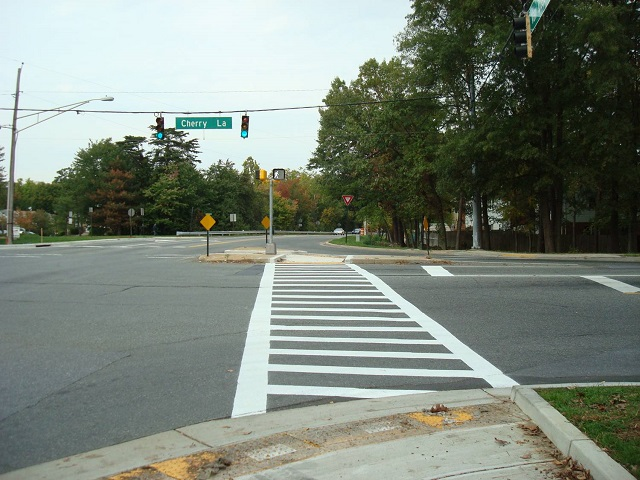pedestrian lane: (232, 263, 520, 419)
pole: (7, 127, 15, 243), (472, 198, 480, 249), (268, 181, 273, 253)
traffic light: (512, 13, 534, 59), (239, 114, 249, 138), (155, 116, 164, 139), (255, 169, 266, 181), (273, 169, 285, 179)
tree: (524, 75, 571, 249)
